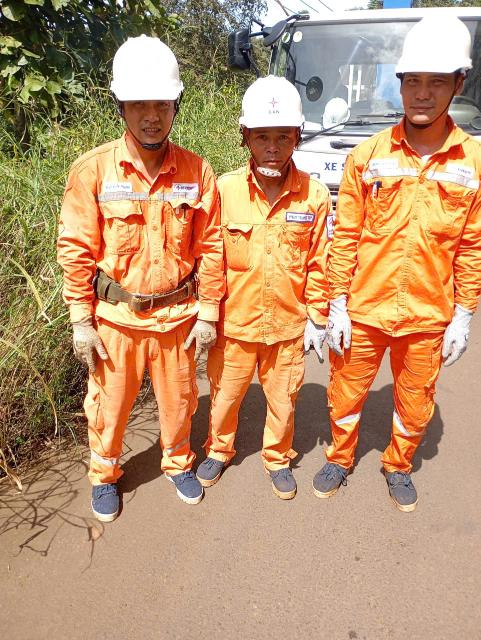gloves: (322, 292, 359, 360), (65, 313, 110, 368), (437, 300, 472, 366), (186, 313, 220, 364), (302, 313, 328, 369)
harness: (83, 262, 204, 310)
helmet: (101, 27, 186, 104), (395, 5, 479, 78), (237, 76, 308, 131)
shoes: (74, 473, 133, 536), (373, 460, 429, 515), (158, 459, 204, 507), (189, 443, 234, 491), (258, 452, 302, 501), (310, 457, 354, 502)
